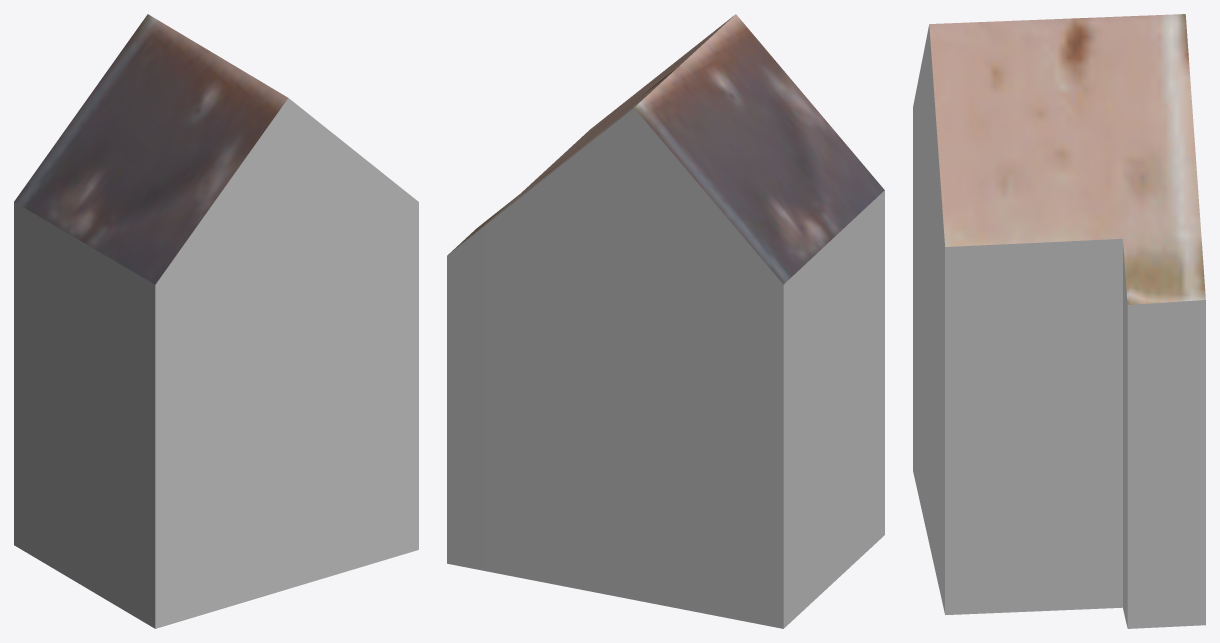
Rendered from DEBW_0010007Tx94.gltf.
3 views of the same model, side by side, from view 1: azimuth 30°, elevation 25°; view 2: azimuth 150°, elevation 25°; view 3: azimuth 270°, elevation 25° (orthographic). The views are drawn at different scales.
Parts seen in each view (by area): view 1: Z_UP; view 2: Z_UP; view 3: Z_UP.
Part boxes in pixels (x1,y1,x2,y2): Z_UP: (14,14,418,628); Z_UP: (447,14,884,628); Z_UP: (913,14,1205,628).
Bounding box in the file's own units: 13.89 × 20.01 × 10.22.
Materials: 2 (1 with a texture image).
